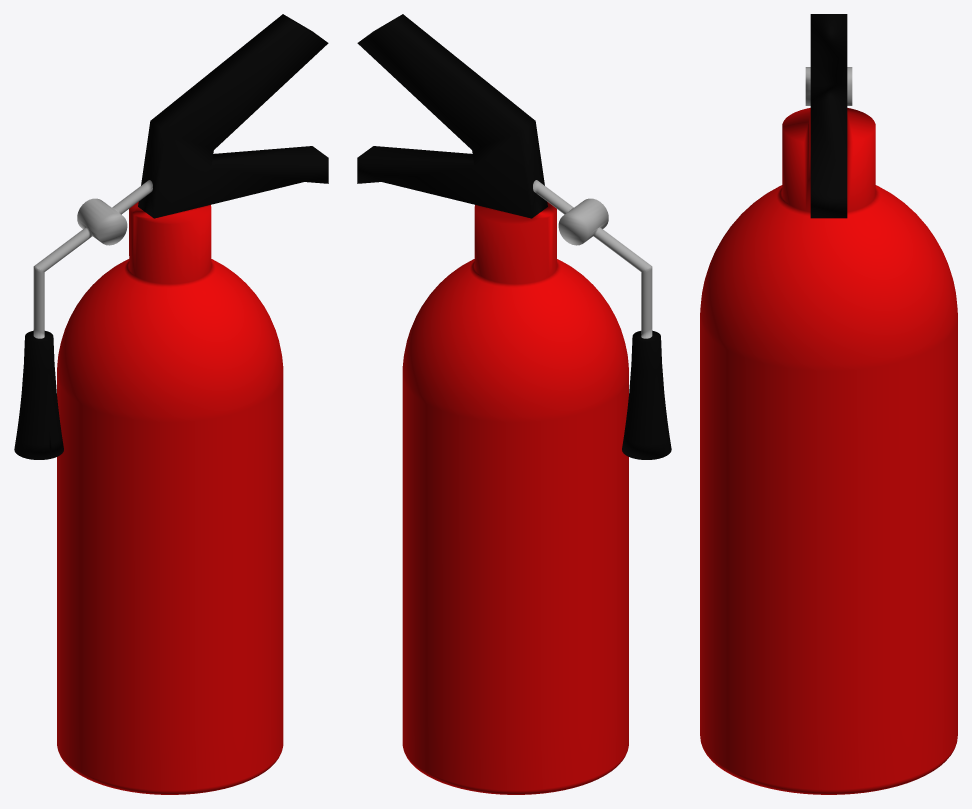
File: Fire_Extinguisher 1.fbx
3 renders of one model, left to right at view 1: azimuth 30°, elevation 25°; view 2: azimuth 150°, elevation 25°; view 3: azimuth 270°, elevation 25°, orthographic. The views are drawn at different scales.
Parts seen in each view (by area): view 1: transform1; view 2: transform1; view 3: transform1.
Part boxes in pixels (box(x1,y1,x2,y2)): transform1: box(14, 14, 328, 794); transform1: box(357, 14, 671, 794); transform1: box(700, 14, 957, 794).
Bounding box in the file's own units: 10.8 × 23.86 × 7.
